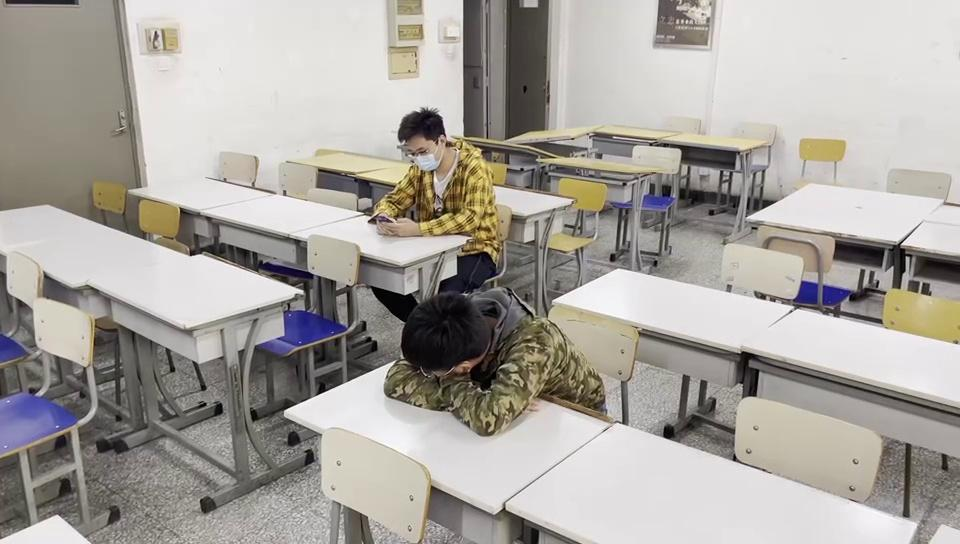phone: (372, 112, 490, 237)
sleep: (386, 296, 559, 431)
